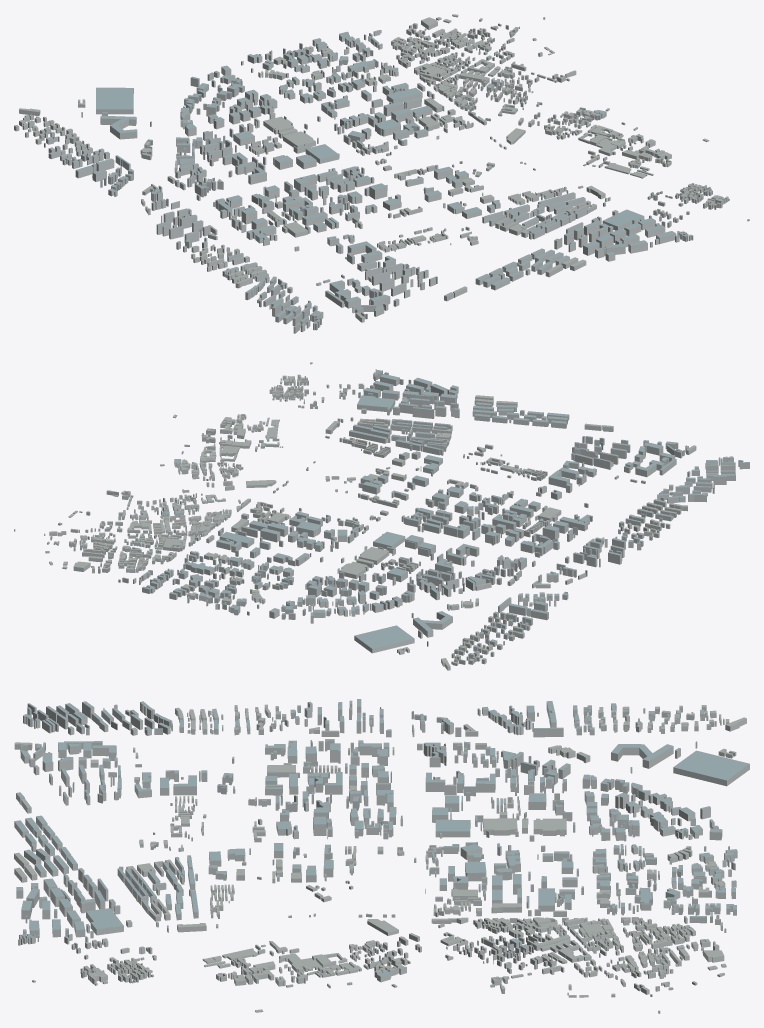
The model's file is far.glb.
The picture shows the model from 3 angles, top to bottom: view 1: azimuth 30°, elevation 25°; view 2: azimuth 150°, elevation 25°; view 3: azimuth 270°, elevation 25°; orthographic projection. The views are drawn at different scales.
Size of the model in its own units: 2107 by 40.92 by 2148.
